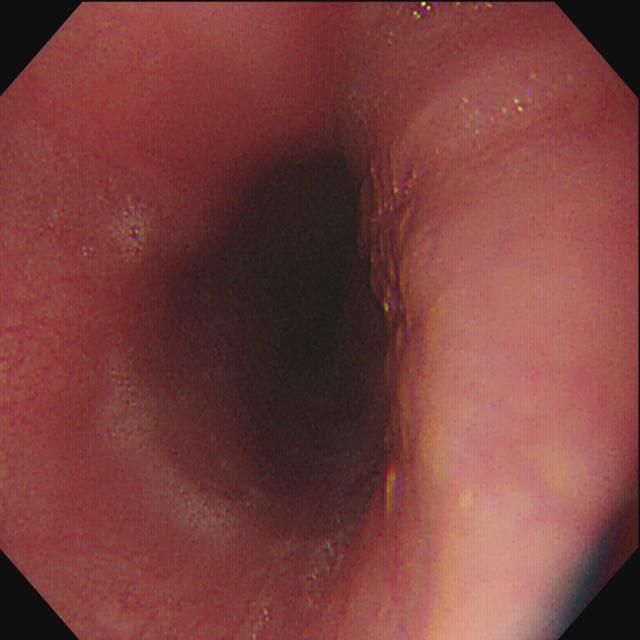E: (266, 217, 353, 473)
T: (110, 367, 239, 541), (114, 206, 156, 260)
